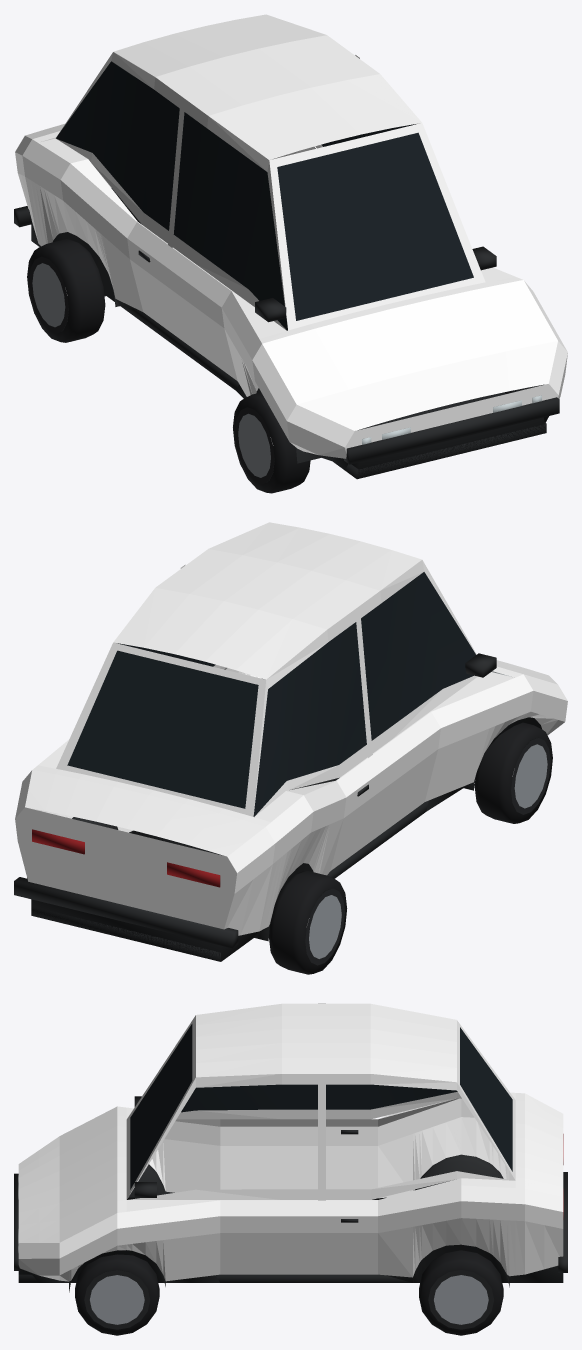
The model's file is hoshino_pipa.glb.
3 renders of one model, top to bottom at view 1: azimuth 30°, elevation 25°; view 2: azimuth 150°, elevation 25°; view 3: azimuth 270°, elevation 25°, orthographic. The views are drawn at different scales.
Visible parts, largest first — view 1: Body_Paint, Body_Details, Mount_RearLeft_Wheel_Details, Mount_FrontLeft_Wheel_Details; view 2: Body_Paint, Body_Details, Mount_RearLeft_Wheel_Details, Mount_FrontLeft_Wheel_Details; view 3: Body_Paint, Body_Details, Mount_RearRight_Wheel_Details, Mount_FrontRight_Wheel_Details.
Part boxes in pixels (x1,y1,x2,y2): Body_Paint: [15, 14, 567, 458]; Body_Details: [14, 61, 559, 479]; Mount_RearLeft_Wheel_Details: [27, 239, 105, 342]; Mount_FrontLeft_Wheel_Details: [233, 392, 310, 493]; Body_Paint: [15, 522, 567, 935]; Body_Details: [14, 572, 541, 961]; Mount_RearLeft_Wheel_Details: [269, 871, 347, 974]; Mount_FrontLeft_Wheel_Details: [474, 722, 552, 823]; Body_Paint: [18, 1003, 563, 1281]; Body_Details: [14, 1024, 567, 1292]; Mount_RearRight_Wheel_Details: [419, 1250, 503, 1335]; Mount_FrontRight_Wheel_Details: [75, 1254, 159, 1335].
Size of the model in its own units: 1.57 by 1.57 by 3.2.
2 materials, 1 textured.
